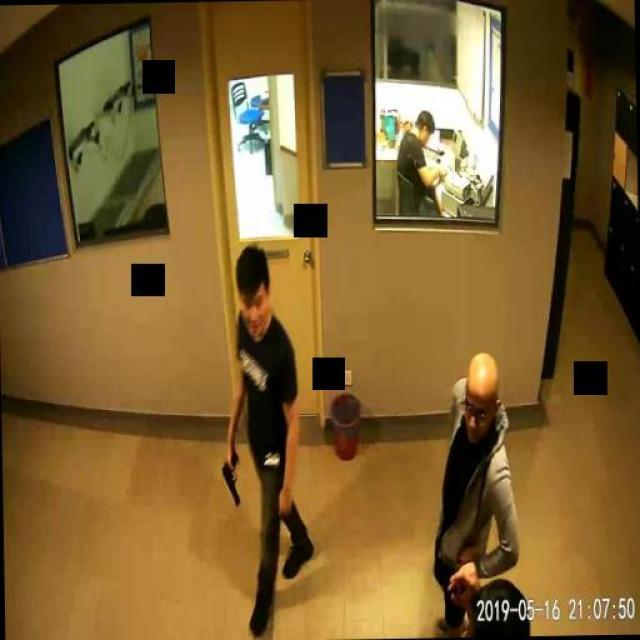gun: (220, 450, 239, 504)
